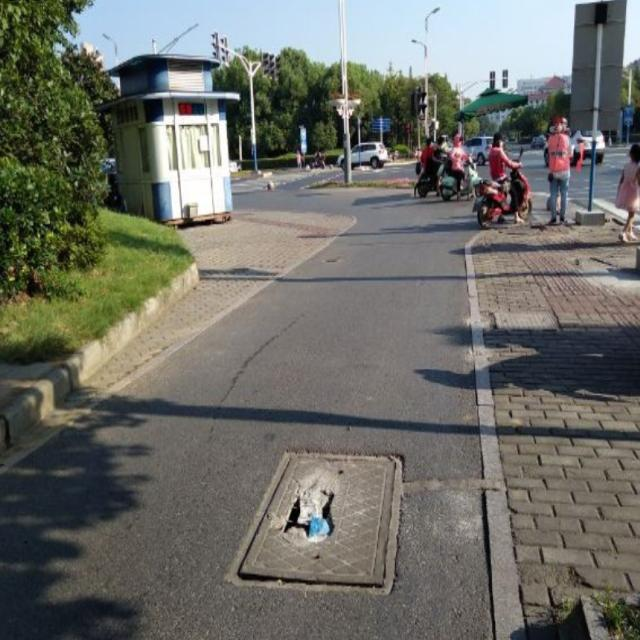Broken: (234, 429, 409, 600)
